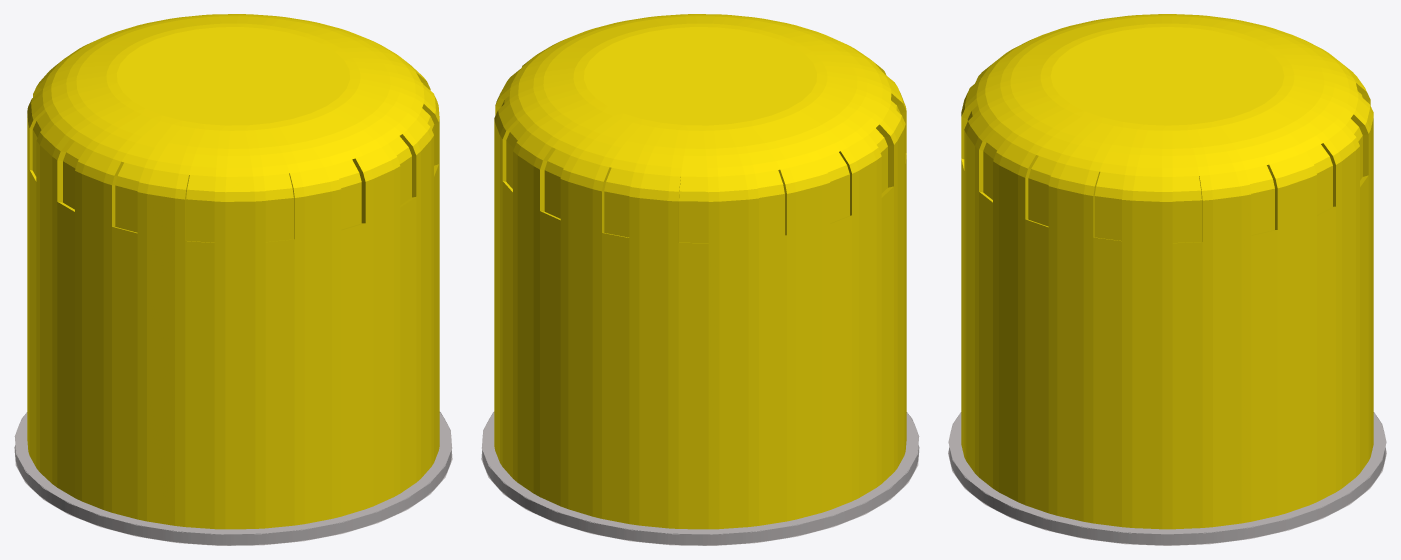
The model's file is filtr.fbx.
3 views of the same model, side by side, from view 1: azimuth 30°, elevation 25°; view 2: azimuth 150°, elevation 25°; view 3: azimuth 270°, elevation 25° (orthographic).
Visible parts, largest first — view 1: obudowa, dekiel; view 2: obudowa, dekiel; view 3: obudowa, dekiel.
Part boxes in pixels (x1,y1,x2,y2): obudowa: (27, 14, 439, 529); dekiel: (14, 411, 452, 545); obudowa: (494, 14, 906, 529); dekiel: (481, 411, 919, 545); obudowa: (961, 14, 1373, 529); dekiel: (948, 412, 1386, 545).
Size of the model in its own units: 212 by 203 by 212.
